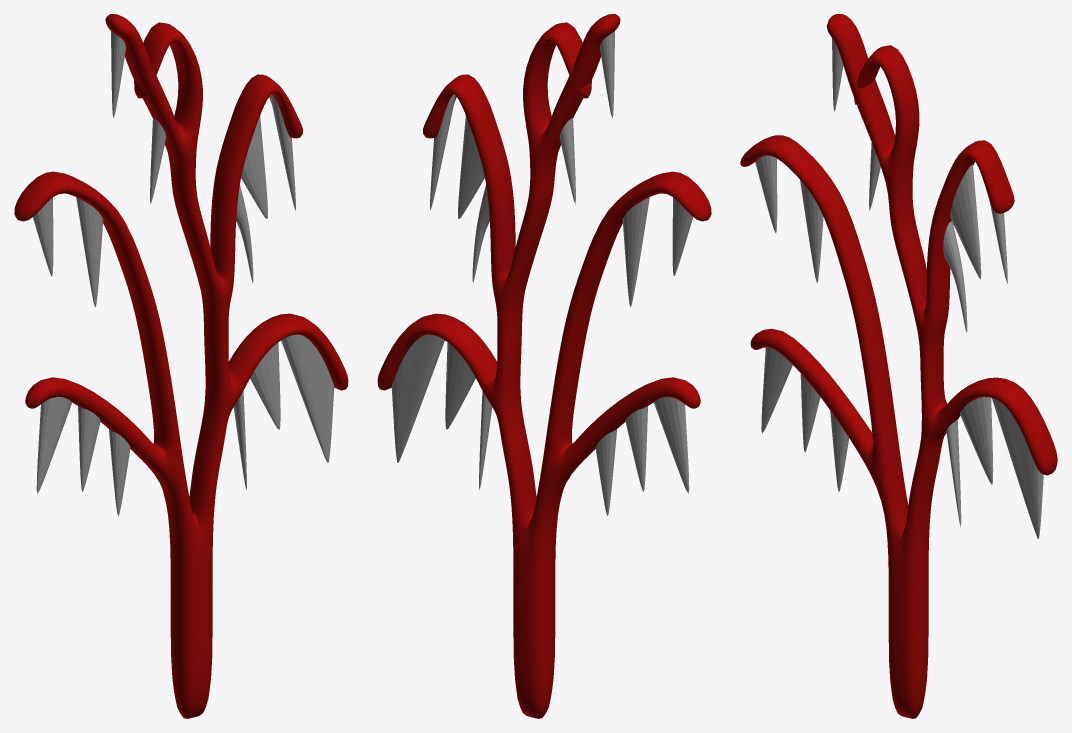
Rendered from mars-tree-07.obj.
3 views of the same model, side by side, from view 1: azimuth 30°, elevation 25°; view 2: azimuth 150°, elevation 25°; view 3: azimuth 330°, elevation 25° (orthographic). The views are drawn at different scales.
Parts seen in each view (by area): view 1: Tree.007_Cube.041; view 2: Tree.007_Cube.041; view 3: Tree.007_Cube.041.
Boxes of the visible parts, bbox=[...] form: Tree.007_Cube.041: bbox=[14, 14, 348, 718]; Tree.007_Cube.041: bbox=[377, 14, 711, 718]; Tree.007_Cube.041: bbox=[740, 14, 1057, 718].
Size of the model in its own units: 1.95 by 4.08 by 0.2.
